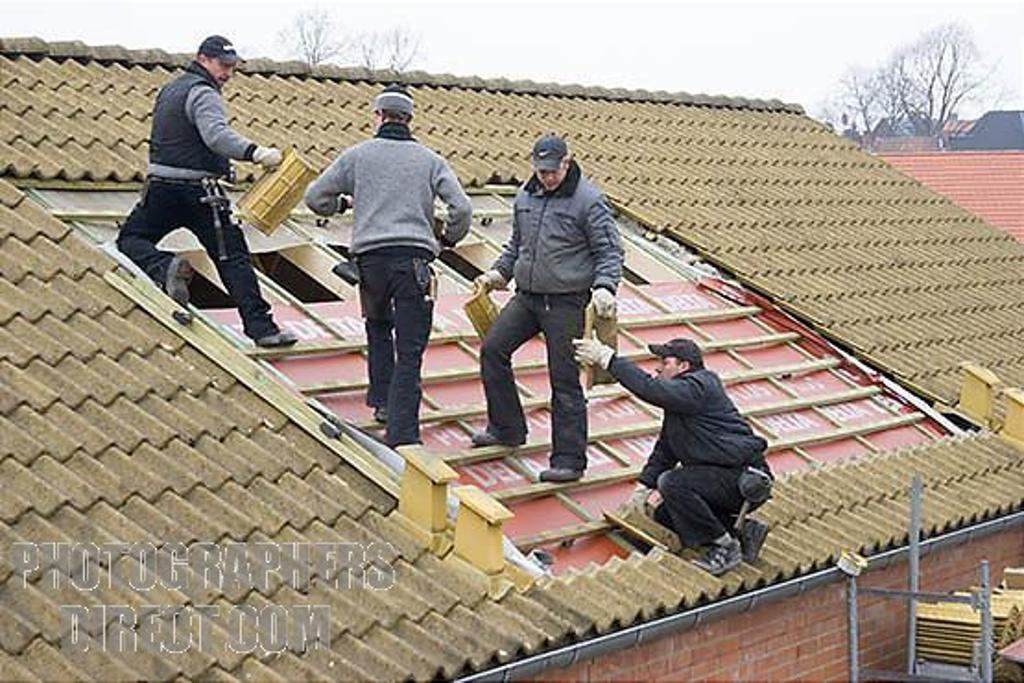face: (536, 160, 563, 189), (208, 56, 233, 85), (654, 355, 678, 379)
